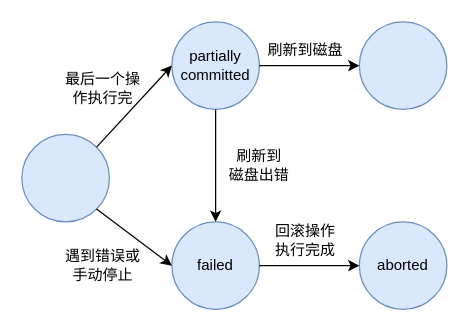
Some shapes in this 469 by 331 pixel diagram are drawn without their labels. Each missing label, with the box of its shape:
Active: (21, 133, 109, 222)
committed: (358, 21, 447, 109)
